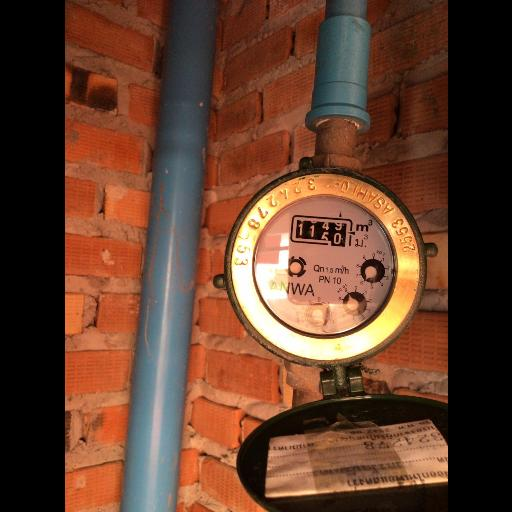1: (307, 221, 318, 240), (295, 220, 305, 239)
4: (319, 221, 332, 241)
9: (331, 223, 345, 247)
border_water_meter_number: (290, 215, 357, 248)
